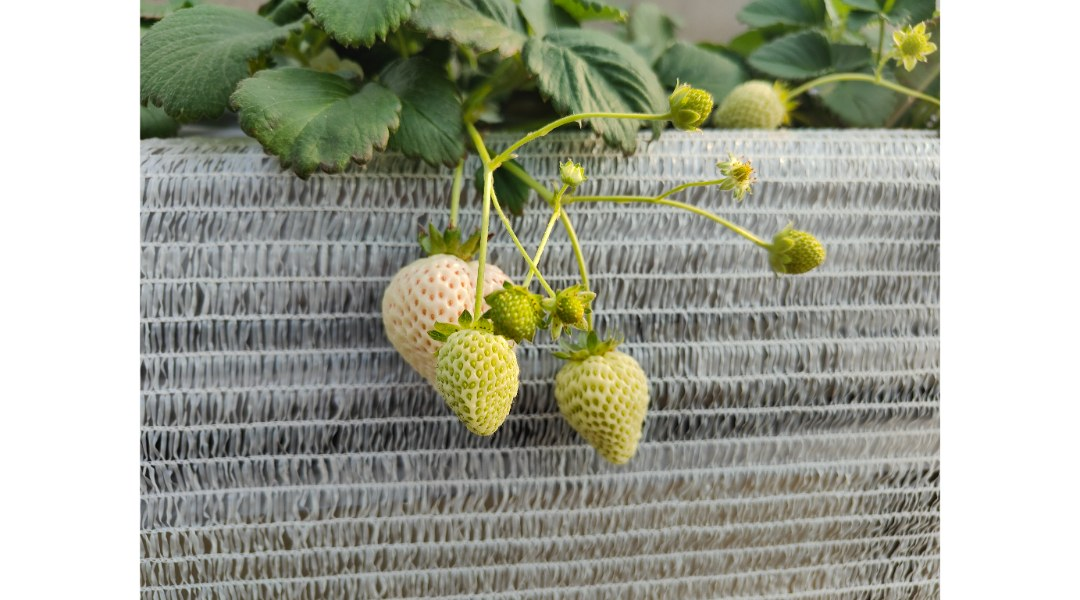berry: (367, 223, 500, 392), (557, 342, 647, 475), (435, 313, 517, 454), (721, 70, 813, 145), (768, 220, 836, 281), (491, 271, 540, 349), (666, 71, 713, 141), (557, 281, 598, 335)
strain: (502, 104, 657, 151), (671, 201, 763, 248), (559, 223, 600, 274), (474, 179, 488, 308), (576, 190, 645, 214)
